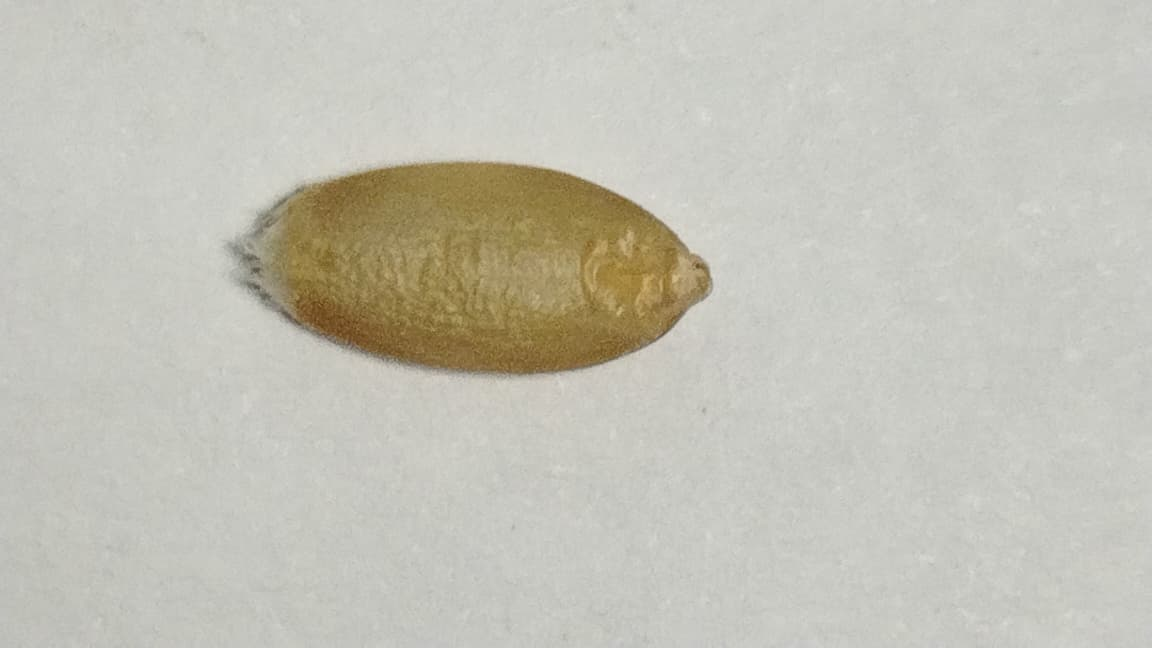healthy: (262, 163, 709, 373)
